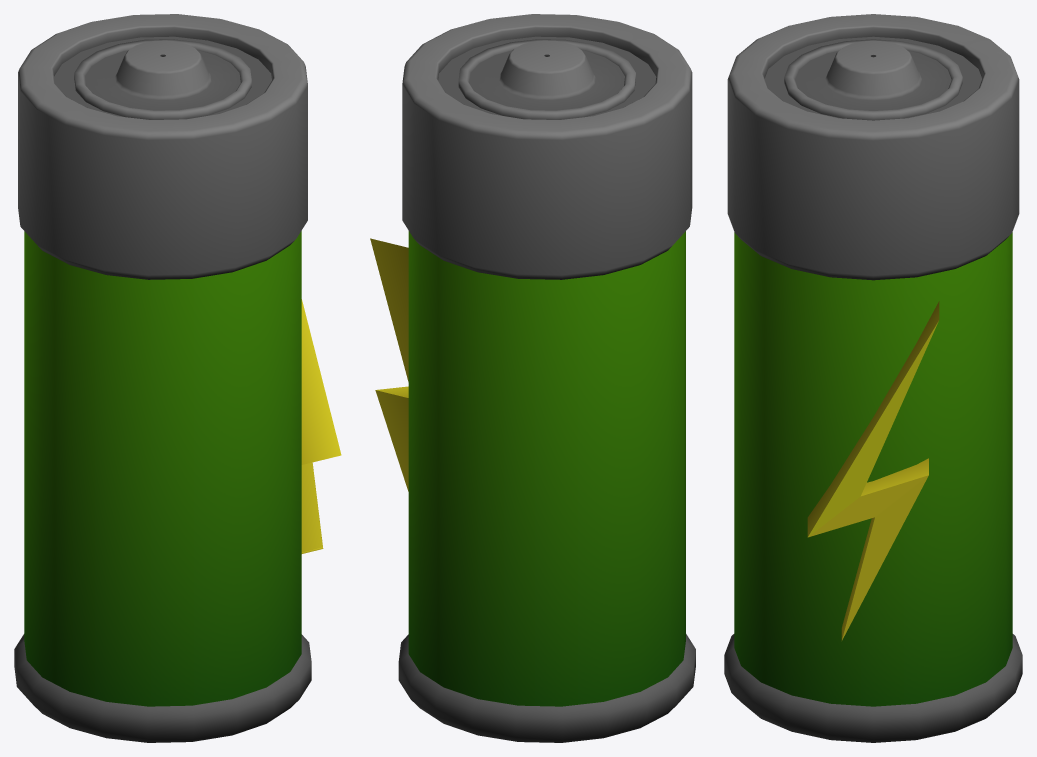
The model's file is Battery.fbx.
3 renders of one model, left to right at view 1: azimuth 30°, elevation 25°; view 2: azimuth 150°, elevation 25°; view 3: azimuth 270°, elevation 25°, orthographic.
Parts seen in each view (by area): view 1: Battery; view 2: Battery; view 3: Battery.
Part boxes in pixels (x1,y1,x2,y2): Battery: (14,14,341,742); Battery: (370,14,695,742); Battery: (724,14,1022,742).
Size of the model in its own units: 0.6639 by 1.45 by 0.6251.
